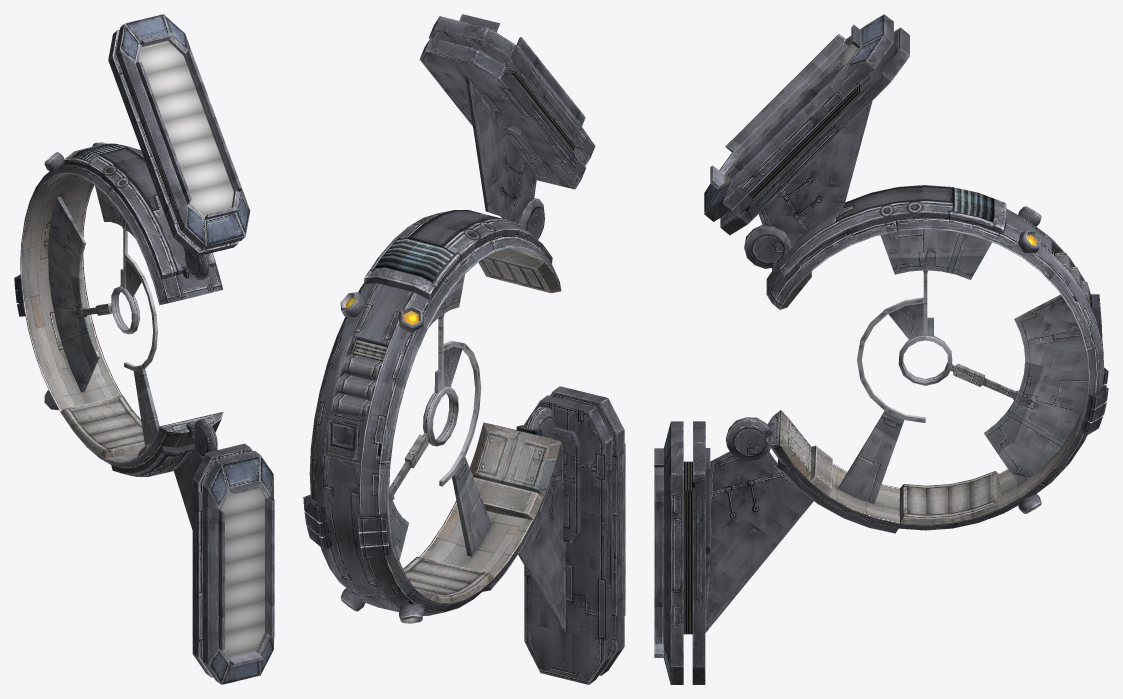
The model's file is spc_beacon_hyperspace_l_receptor_l0.fbx.
The picture shows the model from 3 angles, left to right: view 1: azimuth 30°, elevation 25°; view 2: azimuth 150°, elevation 25°; view 3: azimuth 270°, elevation 25°; orthographic projection. The views are drawn at different scales.
Visible parts, largest first — view 1: mesh_node; view 2: mesh_node; view 3: mesh_node.
Boxes of the visible parts, x1=… form: mesh_node: x1=14, y1=14, x2=274, y2=684; mesh_node: x1=303, y1=14, x2=625, y2=684; mesh_node: x1=654, y1=14, x2=1108, y2=684.
Size of the model in its own units: 4.18 by 35.16 by 22.28.
